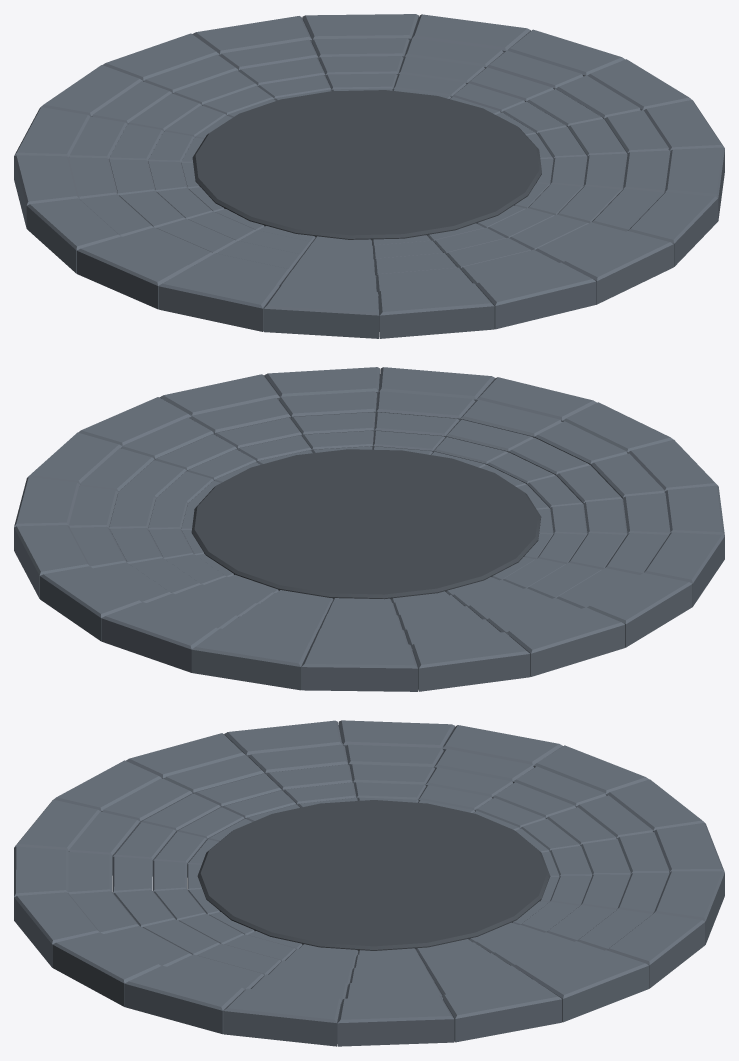
Rendered from HubWorld_Base.fbx.
3 views of the same model, one above another, from view 1: azimuth 30°, elevation 25°; view 2: azimuth 150°, elevation 25°; view 3: azimuth 270°, elevation 25° (orthographic).
Visible parts, largest first — view 1: pCube31; view 2: pCube31; view 3: pCube31.
Boxes of the visible parts, box(x1,y1,x2,y2) form: pCube31: box(14, 14, 724, 338); pCube31: box(14, 367, 724, 691); pCube31: box(14, 720, 724, 1046).
Bounding box in the file's own units: 12.66 × 0.5749 × 12.62.
